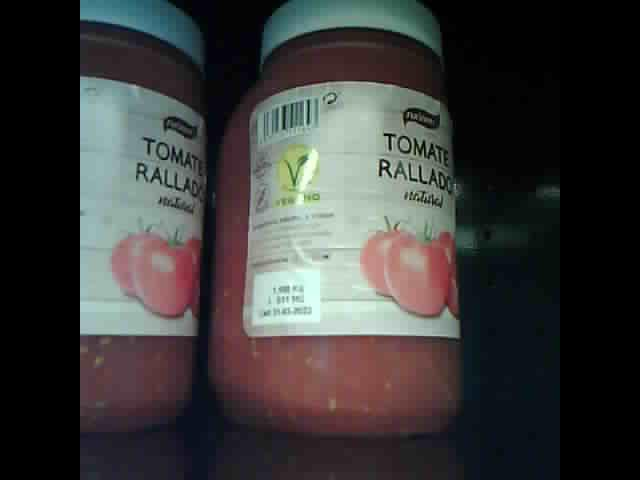tomate: (212, 4, 465, 433), (80, 2, 208, 433)
